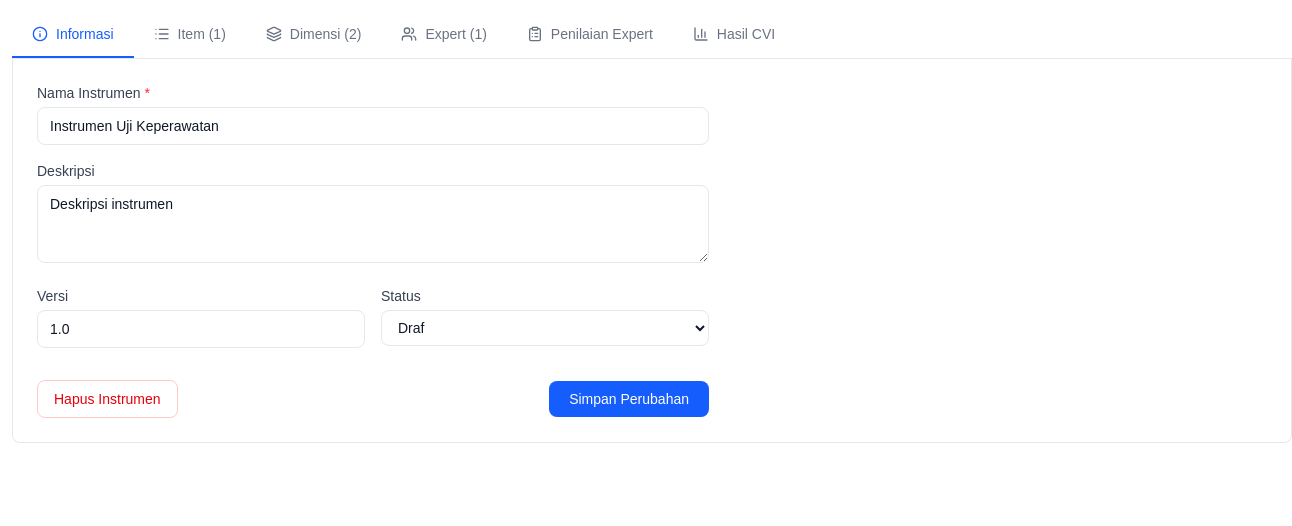
it: InstrumentDetailTabs › harus menampilkan pesan sukses setelah simpan berhasil
This screenshot has width=1292, height=526.
Click the button "Simpan Perubahan".
click(629, 399)  # box left=549, top=381, right=709, bottom=417
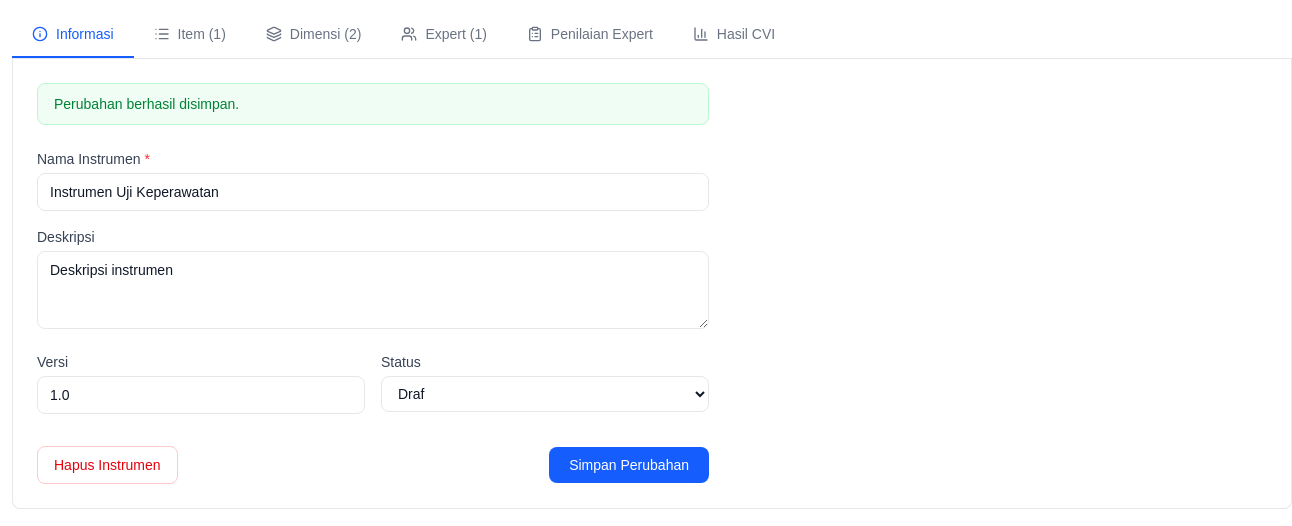
Expected: the text "Perubahan berhasil disimpan." is shown, left=37, top=83, right=709, bottom=125
